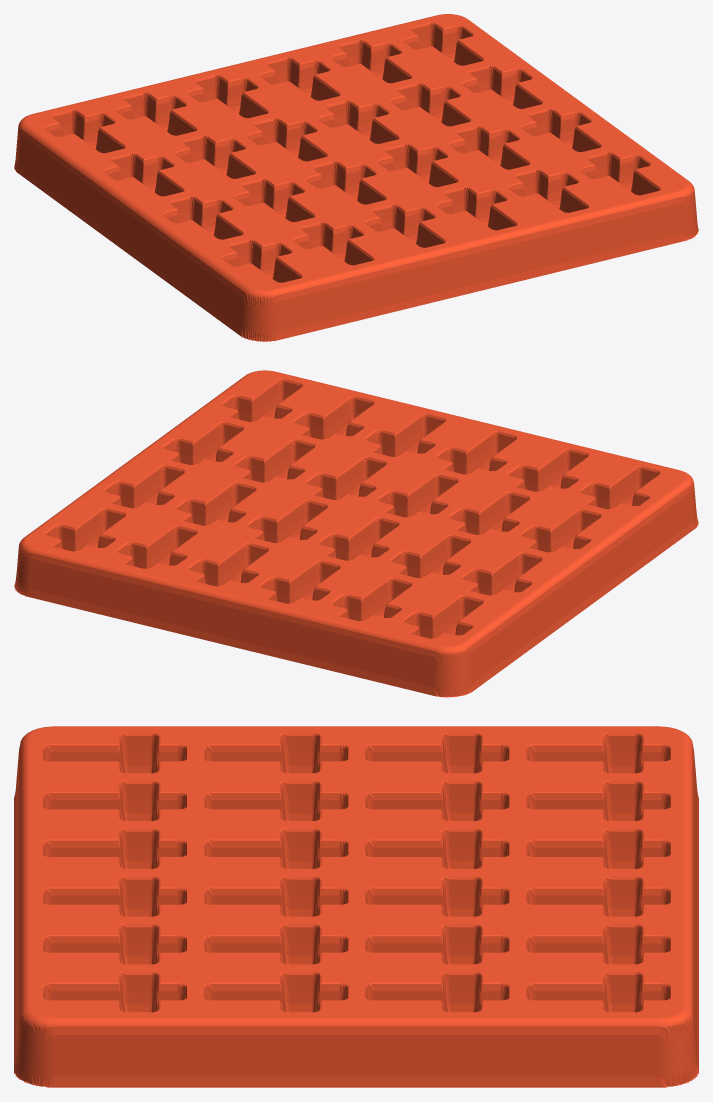
File: mold.glb
The picture shows the model from 3 angles, top to bottom: view 1: azimuth 30°, elevation 25°; view 2: azimuth 150°, elevation 25°; view 3: azimuth 270°, elevation 25°; orthographic projection. The views are drawn at different scales.
Visible parts, largest first — view 1: geometry_0; view 2: geometry_0; view 3: geometry_0.
Part boxes in pixels (left/top/right/bottom): geometry_0: left=14, top=14, right=698, bottom=341; geometry_0: left=14, top=370, right=698, bottom=697; geometry_0: left=14, top=726, right=698, bottom=1087.
Size of the model in its own units: 0.1637 by 0.0159 by 0.1561.
